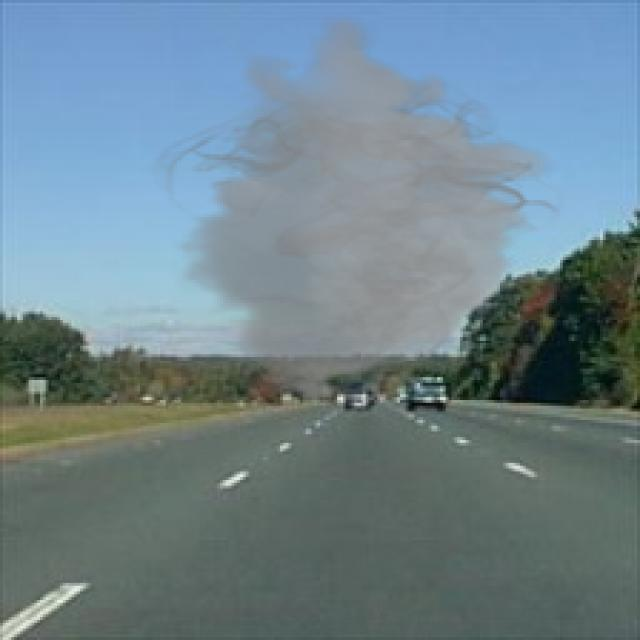Smoke: (145, 14, 566, 406)
